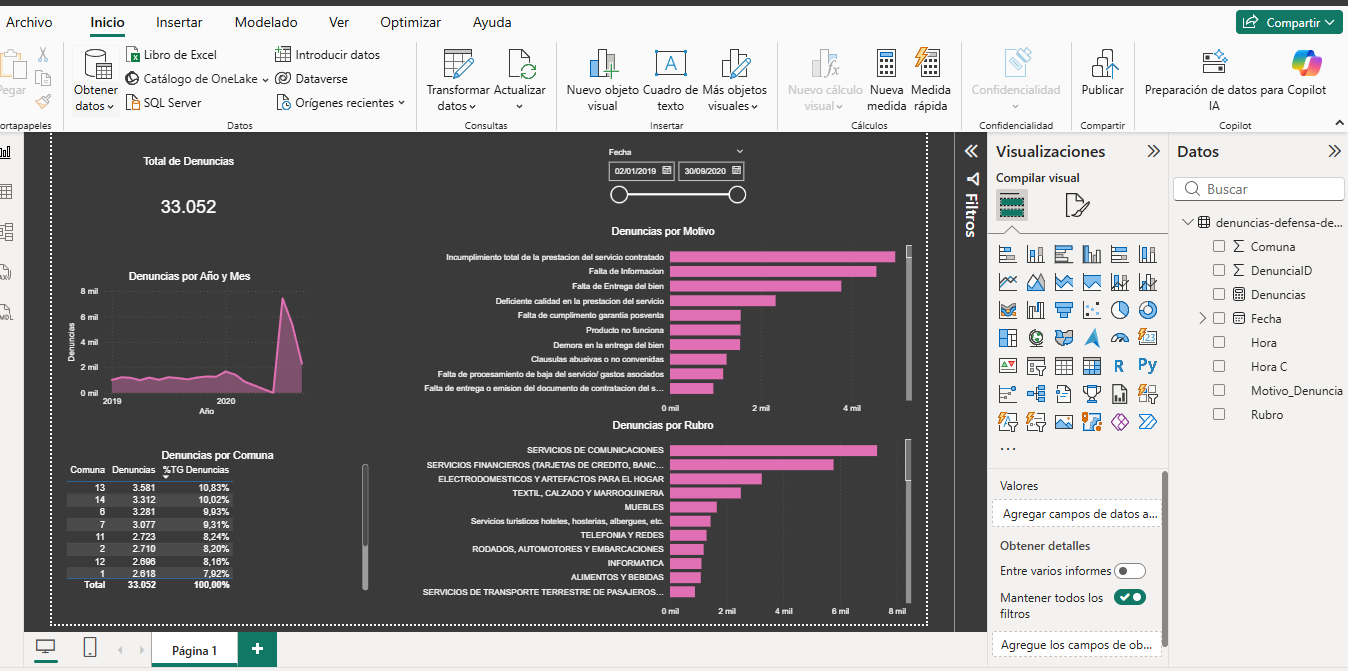

The page's visual inventory and layout, read from the dashboard file:
{"tool":"powerbi","page":{"name":"Página 1","canvas":[1280,720],"ordinal":0},"visuals":[{"type":"card","title":"Total de Denuncias","fields":{"Values":["denuncias-defensa-del-consumidor.Denuncias"]},"box":[51.2,33.7,297.1,134.6],"z":0},{"type":"areaChart","fields":{"Category":["denuncias-defensa-del-consumidor.Fecha.Variación.Jerarquía de fechas.Año","denuncias-defensa-del-consumidor.Fecha.Variación.Jerarquía de fechas.Mes"],"Y":["denuncias-defensa-del-consumidor.Denuncias"]},"box":[17.3,201.6,367.2,218.9],"z":1000},{"type":"barChart","title":"Denuncias por Motivo","fields":{"Y":["denuncias-defensa-del-consumidor.Denuncias"],"Category":["denuncias-defensa-del-consumidor.Motivo_Denuncia"]},"box":[525.4,136.1,737.6,283.9],"z":2000},{"type":"barChart","fields":{"Y":["denuncias-defensa-del-consumidor.Denuncias"],"Category":["denuncias-defensa-del-consumidor.Rubro"]},"box":[525.6,420.5,737.3,296.6],"z":3000},{"type":"tableEx","title":"Denuncias por Comuna","fields":{"Values":["denuncias-defensa-del-consumidor.Comuna","denuncias-defensa-del-consumidor.Denuncias","Divide(denuncias-defensa-del-consumidor.Denuncias, ScopedEval(denuncias-defensa-del-consumidor.Denuncias, []))"]},"box":[16.8,463.6,451.9,211.7],"z":4000},{"type":"slicer","fields":{"Values":["denuncias-defensa-del-consumidor.Fecha"]},"box":[802,17.6,222.4,95.1],"z":5000}]}

Visuals, with their boxes on the page's 1280x720 design canvas (x1, y1, x2, y2). These are canvas units, not pixel positions in the 1348x671 screenshot, which may show the page scaled, cropped or inside an application window:
"Total de Denuncias" card: Rect(51, 34, 348, 168)
areaChart - denuncias-defensa-del-consumidor.Fecha.Variación.Jerarquía de fechas.Año x denuncias-defensa-del-consumidor.Fecha.Variación.Jerarquía de fechas.Mes: Rect(17, 202, 384, 420)
"Denuncias por Motivo" barChart: Rect(525, 136, 1263, 420)
barChart - denuncias-defensa-del-consumidor.Denuncias x denuncias-defensa-del-consumidor.Rubro: Rect(526, 420, 1263, 717)
"Denuncias por Comuna" tableEx: Rect(17, 464, 469, 675)
slicer - denuncias-defensa-del-consumidor.Fecha: Rect(802, 18, 1024, 113)
